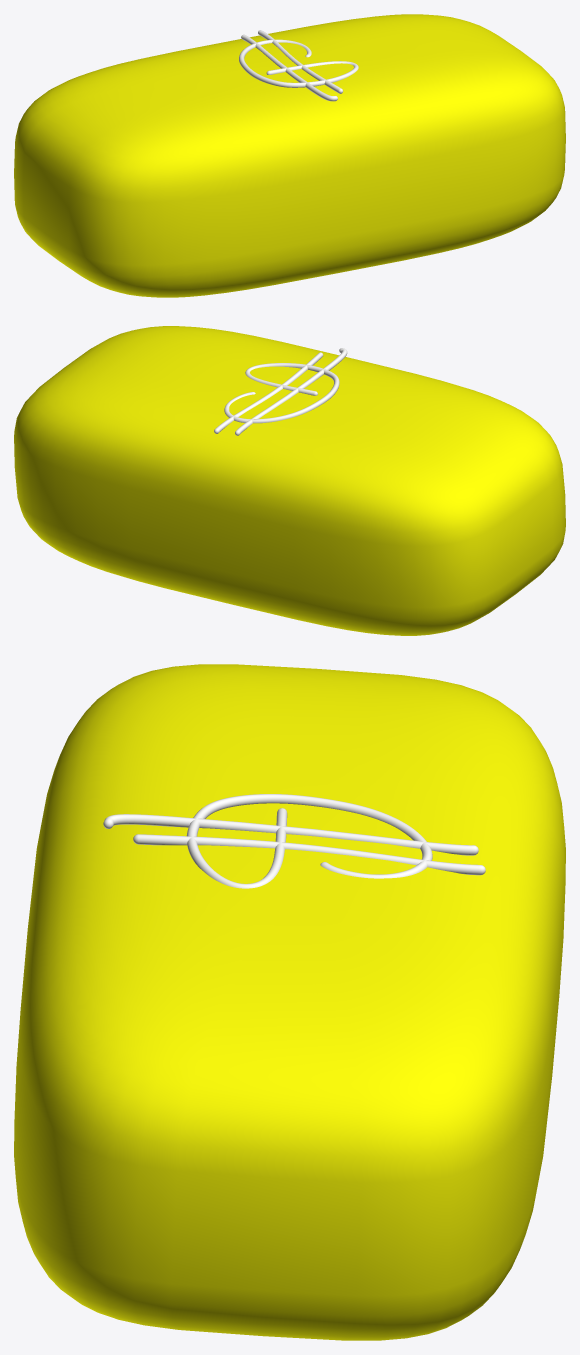
Rendered from gold.fbx.
3 renders of one model, top to bottom at view 1: azimuth 30°, elevation 25°; view 2: azimuth 150°, elevation 25°; view 3: azimuth 270°, elevation 25°, orthographic. The views are drawn at different scales.
Parts seen in each view (by area): view 1: p.0003, s.0014, s.0015, s.0016; view 2: p.0003, s.0014, s.0015, s.0016; view 3: p.0003, s.0014, s.0015, s.0016.
Part boxes in pixels (bbox=[...]): p.0003: bbox=[14, 14, 565, 297]; s.0014: bbox=[239, 39, 358, 87]; s.0015: bbox=[241, 34, 337, 101]; s.0016: bbox=[258, 30, 343, 93]; p.0003: bbox=[14, 326, 565, 635]; s.0014: bbox=[224, 363, 339, 423]; s.0015: bbox=[235, 348, 347, 435]; s.0016: bbox=[214, 352, 323, 433]; p.0003: bbox=[14, 664, 565, 1340]; s.0014: bbox=[186, 794, 432, 888]; s.0015: bbox=[103, 814, 478, 855]; s.0016: bbox=[133, 834, 485, 875].
Bounding box in the file's own units: 38.14 × 20.22 × 14.31.
